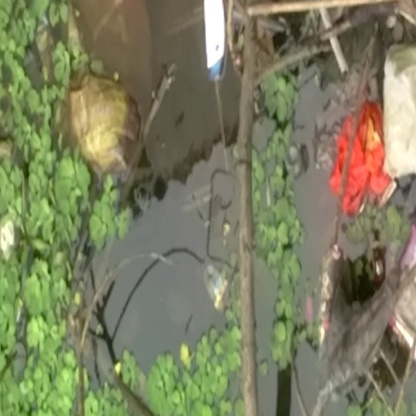plastic-bag: (327, 101, 400, 215)
